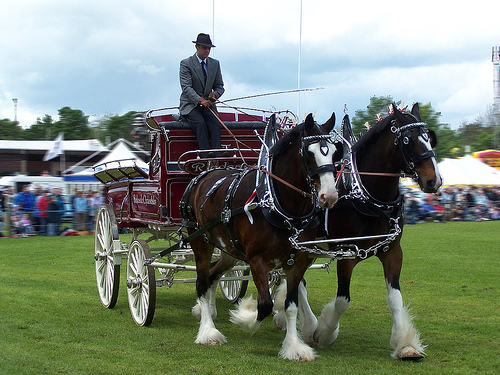horse: (180, 111, 346, 361), (287, 102, 443, 363)
